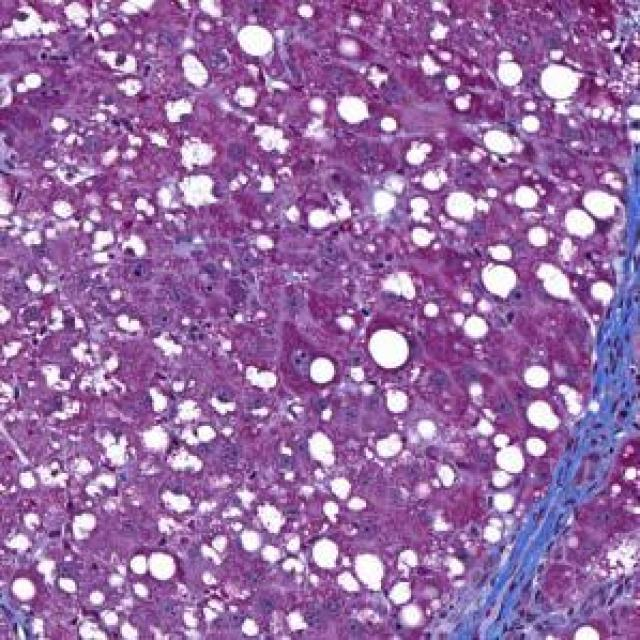fibrosis: (543, 317, 640, 593)
